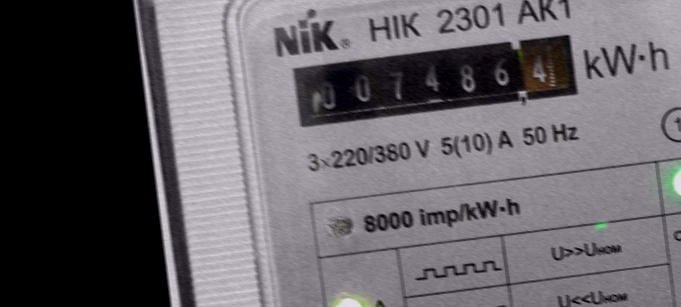0: (315, 76, 339, 113), (351, 70, 373, 105)
4: (420, 59, 442, 96), (527, 50, 548, 86)
6: (491, 55, 513, 89)
7: (383, 67, 410, 102)
8: (457, 60, 478, 97)
screen: (282, 21, 588, 141)
